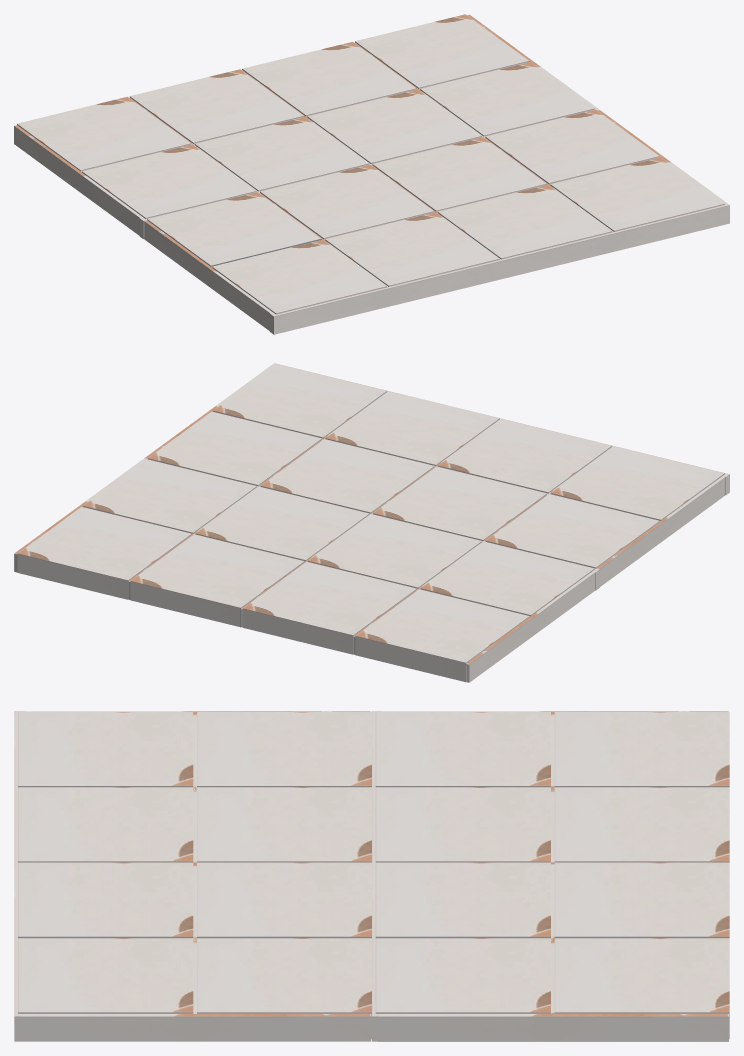
File: suelo.obj
3 views of the same model, one above another, from view 1: azimuth 30°, elevation 25°; view 2: azimuth 150°, elevation 25°; view 3: azimuth 270°, elevation 25° (orthographic). The views are drawn at different scales.
Parts seen in each view (by area): view 1: Part4, Part19, Part65, Part120, Part148, Part52, Part59, Part73, Part90, Part98, Part126, Part25 (+8 smaller); view 2: Part4, Part25, Part73, Part104, Part148, Part19, Part52, Part126, Part134, Part42, Part120, Part65 (+10 smaller); view 3: Part4, Part59, Part73, Part79, Part90, Part98, Part104, Part126, Part134, Part19, Part42, Part52 (+16 smaller).
Boxes of the visible parts, left/top/right/bottom form: Part4: left=551, top=157, right=724, bottom=230; Part19: left=485, top=109, right=659, bottom=182; Part65: left=82, top=144, right=255, bottom=217; Part120: left=213, top=239, right=386, bottom=313; Part148: left=17, top=96, right=190, bottom=170; Part52: left=373, top=137, right=546, bottom=210; Part59: left=130, top=69, right=303, bottom=142; Part73: left=243, top=41, right=416, bottom=115; Part90: left=355, top=14, right=528, bottom=87; Part98: left=438, top=185, right=611, bottom=258; Part126: left=195, top=117, right=368, bottom=190; Part25: left=148, top=192, right=320, bottom=265; Part4: left=213, top=364, right=386, bottom=437; Part25: left=486, top=494, right=659, bottom=567; Part73: left=131, top=534, right=303, bottom=607; Part104: left=438, top=419, right=611, bottom=492; Part148: left=356, top=589, right=529, bottom=662; Part19: left=148, top=411, right=321, bottom=484; Part52: left=261, top=439, right=433, bottom=512; Part126: left=308, top=514, right=481, bottom=587; Part134: left=83, top=459, right=256, bottom=532; Part42: left=373, top=466, right=546, bottom=539; Part120: left=551, top=446, right=724, bottom=519; Part65: left=421, top=541, right=594, bottom=614; Part4: left=18, top=938, right=193, bottom=1012; Part59: left=554, top=787, right=729, bottom=861; Part73: left=554, top=862, right=729, bottom=936; Part79: left=375, top=862, right=550, bottom=936; Part90: left=554, top=938, right=729, bottom=1012; Part98: left=18, top=862, right=193, bottom=936; Part104: left=18, top=787, right=193, bottom=861; Part126: left=375, top=787, right=550, bottom=861; Part134: left=375, top=938, right=550, bottom=1012; Part19: left=197, top=938, right=371, bottom=1012; Part42: left=197, top=787, right=371, bottom=861; Part52: left=197, top=862, right=371, bottom=936.
Size of the model in its own units: 12.4 by 0.5101 by 12.27.
